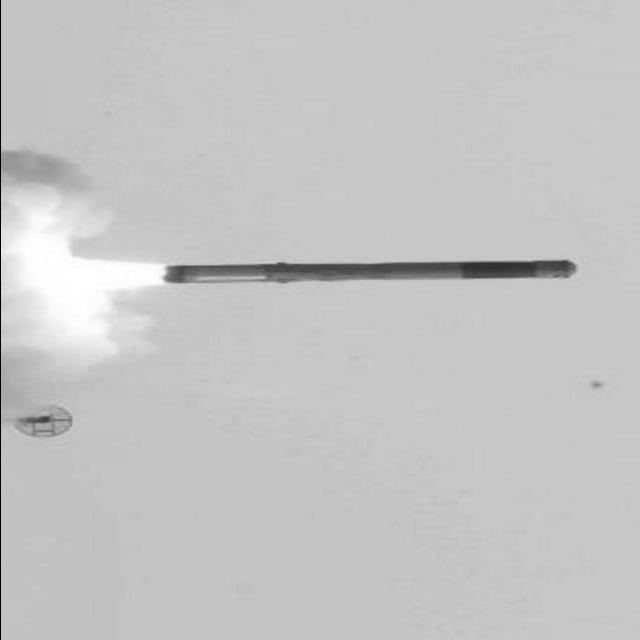Missile: (151, 259, 594, 290)
